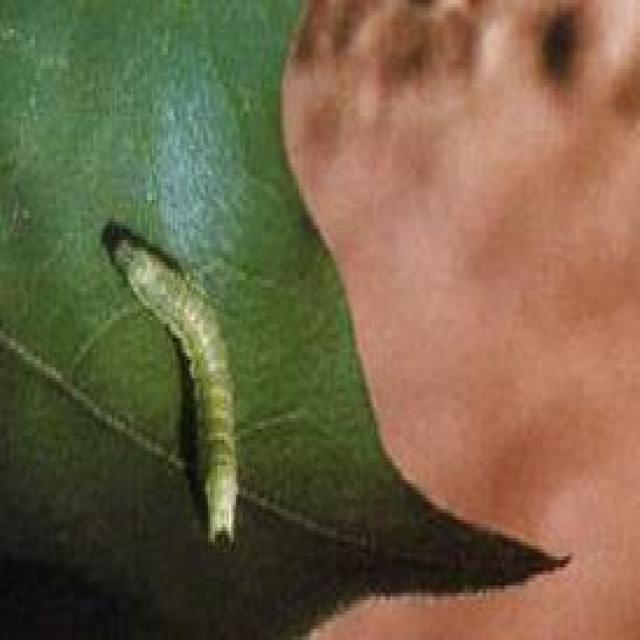BeetArmyWorm-Larva-: (110, 222, 246, 549)
